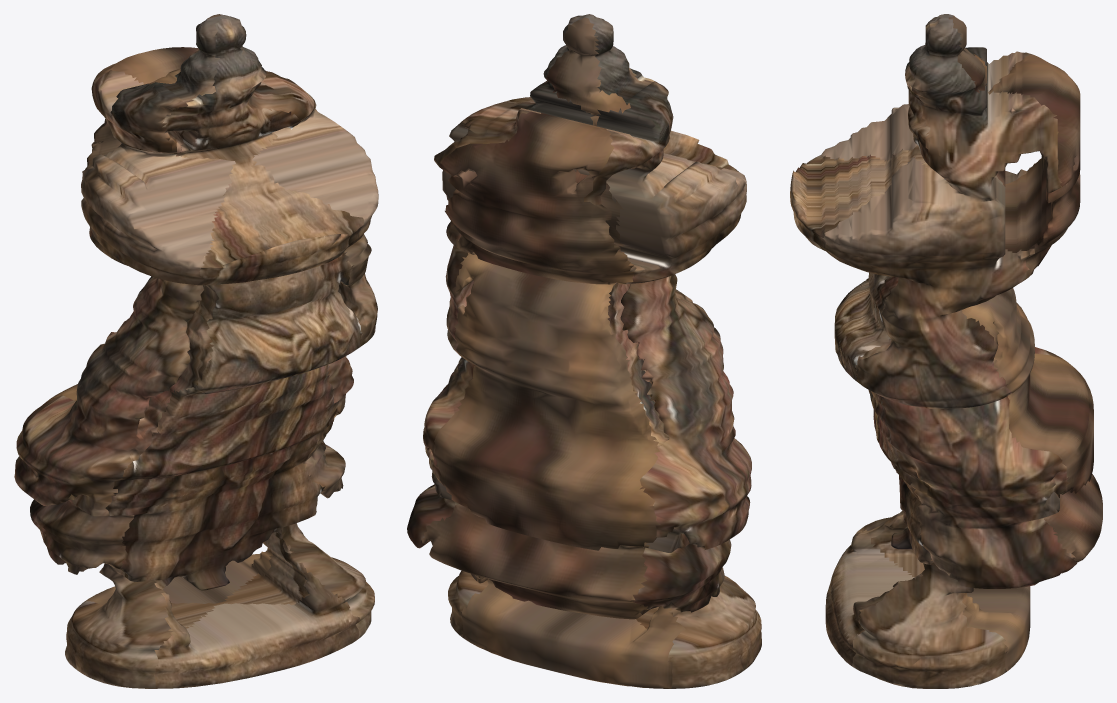
File: vajra-closed.glb
3 views of the same model, side by side, from view 1: azimuth 30°, elevation 25°; view 2: azimuth 150°, elevation 25°; view 3: azimuth 270°, elevation 25° (orthographic). The views are drawn at different scales.
Visible parts, largest first — view 1: vajra-closed; view 2: vajra-closed; view 3: vajra-closed.
Boxes of the visible parts, <box> form: vajra-closed: <box>14,14,378,688</box>; vajra-closed: <box>407,14,761,688</box>; vajra-closed: <box>790,14,1102,688</box>.
Size of the model in its own units: 0.5202 by 1 by 0.4646.
1 material, 1 textured.
